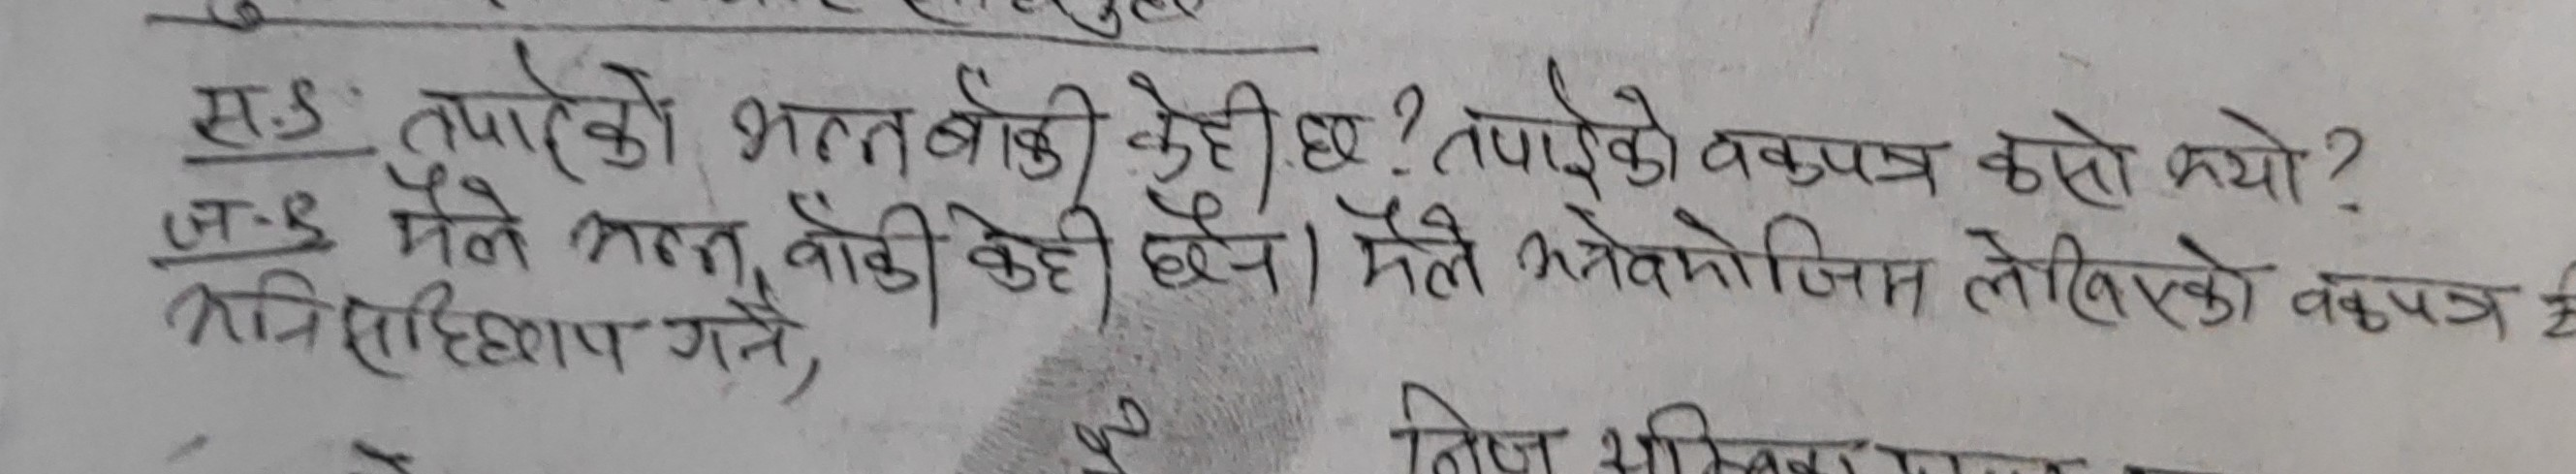text: (1511, 196, 1929, 324), (383, 41, 688, 174), (1952, 216, 2272, 341), (337, 268, 637, 393), (1434, 56, 1686, 199), (925, 53, 1101, 191), (1695, 114, 1955, 206), (774, 191, 945, 318), (953, 199, 1129, 318), (2285, 253, 2514, 344), (1117, 67, 1285, 184), (721, 87, 918, 179), (159, 262, 330, 365), (1139, 194, 1286, 309), (1342, 194, 1490, 308), (1980, 104, 2137, 209), (2159, 104, 2311, 204), (381, 171, 532, 268), (565, 206, 744, 286), (662, 286, 798, 383), (1295, 109, 1372, 181)
